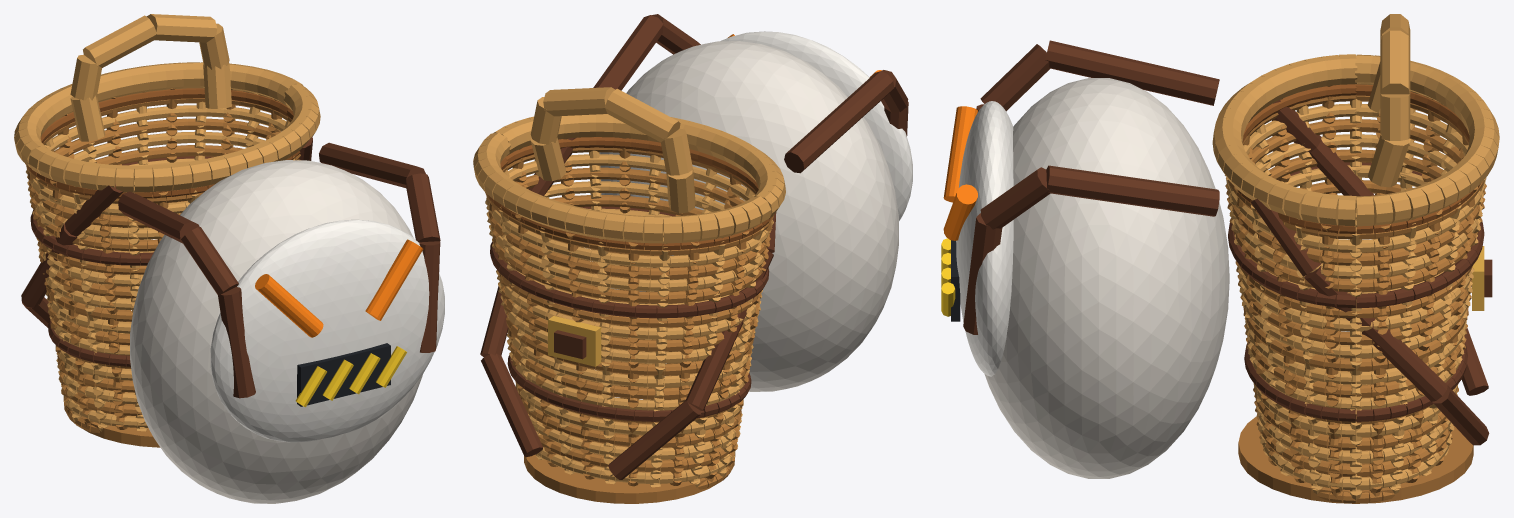
Rendered from robot_body.obj.
3 renders of one model, left to right at view 1: azimuth 30°, elevation 25°; view 2: azimuth 150°, elevation 25°; view 3: azimuth 270°, elevation 25°, orthographic. The views are drawn at different scales.
Visible parts, largest first — view 1: shell, wicker_light, white, wicker, strap, orange, brown, black, yellow; view 2: wicker_light, shell, wicker, strap, white, brown, gold; view 3: shell, wicker_light, wicker, strap, white, brown, orange, yellow, gold.
Boxes of the visible parts, x1,y1,x2,y2 form: shell: (130, 160, 422, 503); wicker_light: (14, 14, 320, 431); white: (210, 219, 444, 442); wicker: (25, 88, 300, 447); strap: (21, 137, 440, 398); orange: (255, 239, 423, 337); brown: (27, 88, 300, 198); black: (297, 343, 390, 406); yellow: (295, 346, 406, 407); wicker_light: (473, 87, 785, 487); shell: (599, 41, 898, 391); wicker: (485, 138, 774, 503); strap: (480, 14, 908, 479); white: (720, 31, 912, 220); brown: (488, 137, 772, 250); gold: (548, 316, 601, 366); shell: (984, 78, 1229, 478); wicker_light: (1212, 14, 1499, 501); wicker: (1225, 85, 1486, 503); strap: (963, 40, 1492, 445); white: (956, 101, 1013, 376); brown: (1231, 84, 1480, 233); orange: (943, 106, 977, 240); yellow: (941, 238, 955, 316); gold: (1472, 246, 1484, 310).
Bounding box in the file's own units: 0.84 × 1.1 × 1.28.
